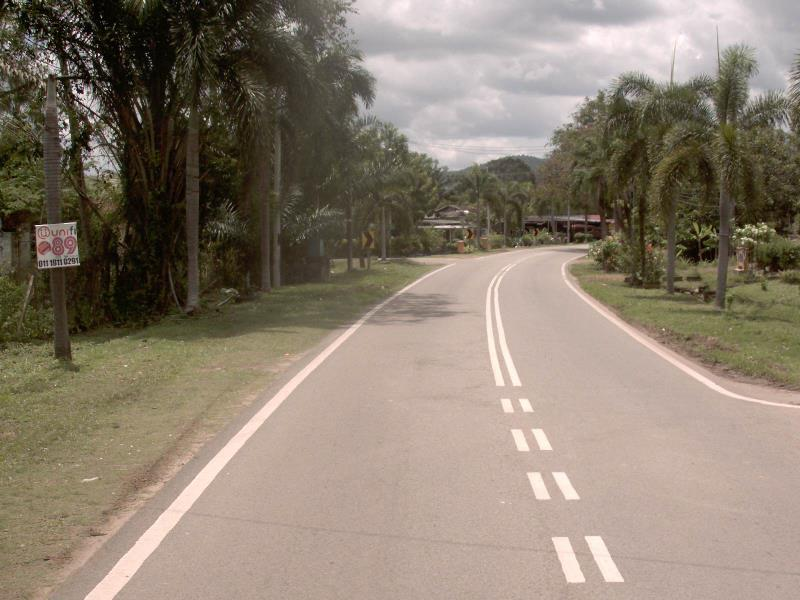ads_sign: (25, 215, 87, 274)
